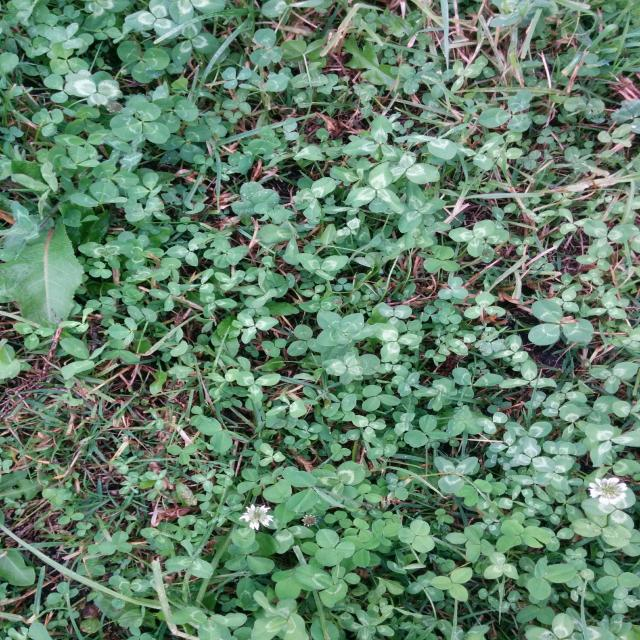Four Leaf Clover: (316, 311, 378, 360)
